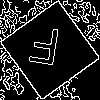F: (25, 25, 62, 76)
